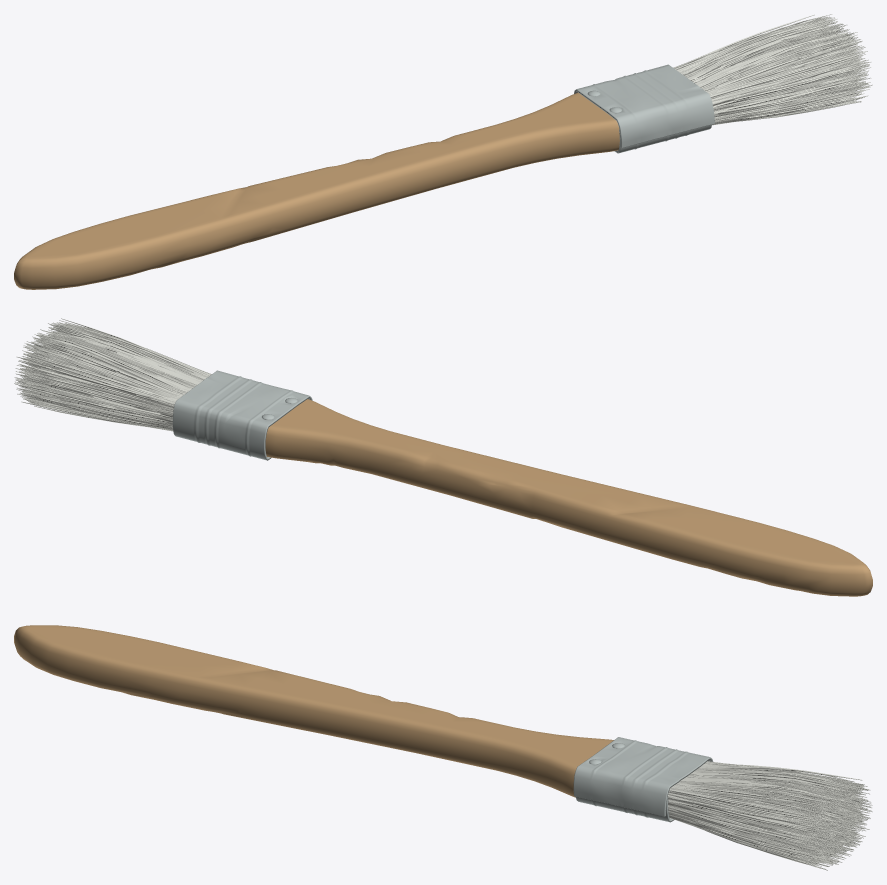
The model's file is paint_supplies_brush_a01.glb.
The picture shows the model from 3 angles, top to bottom: view 1: azimuth 30°, elevation 25°; view 2: azimuth 150°, elevation 25°; view 3: azimuth 330°, elevation 25°; orthographic projection.
Size of the model in its own units: 0.2202 by 0.0175 by 0.0246.
